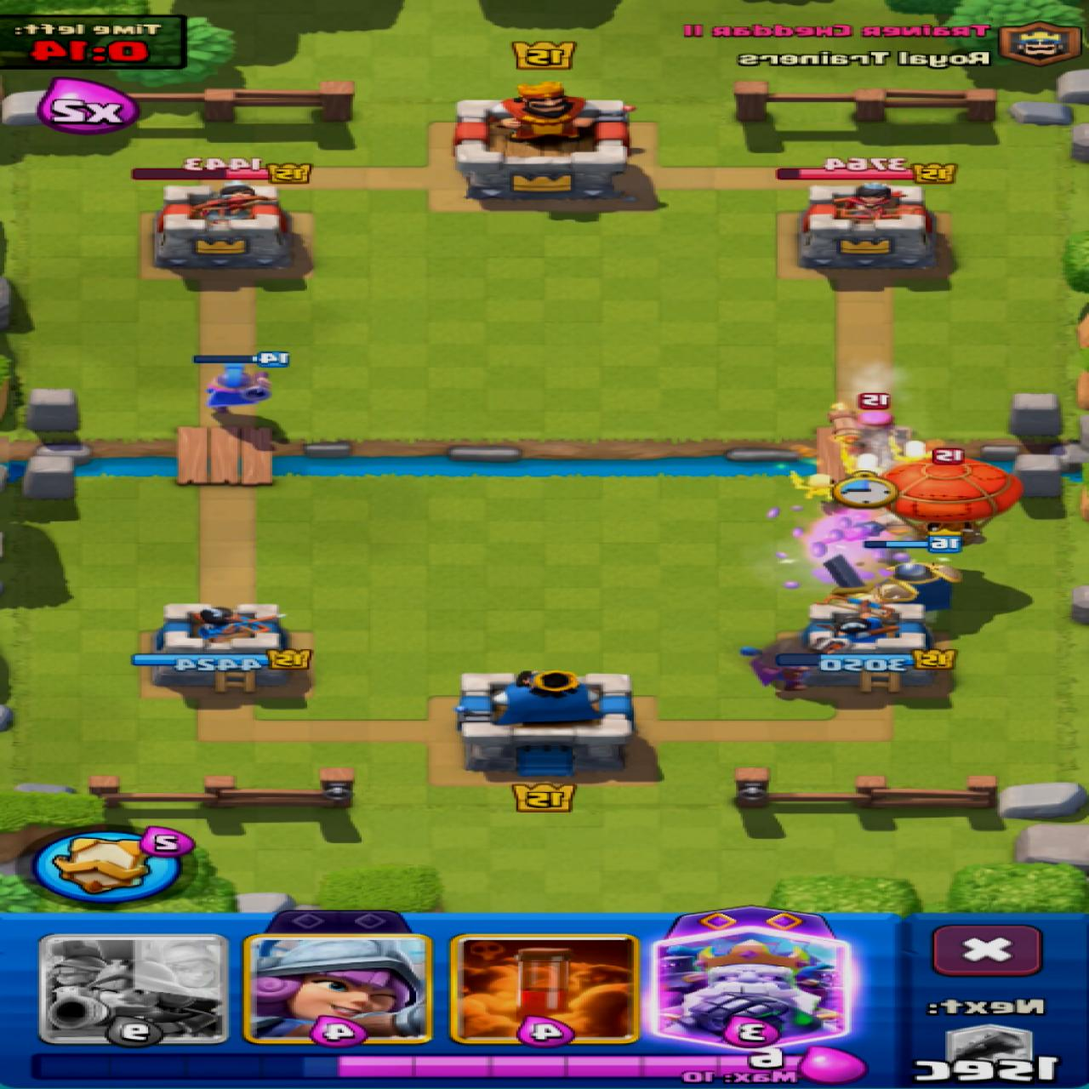Enemy-Balloon: (884, 457, 1021, 544)
Enemy-Firecracker: (830, 393, 893, 441)
Enemy-KingTower: (455, 84, 632, 201)
Enemy-PrincessTower: (155, 183, 307, 279), (802, 182, 934, 268)
